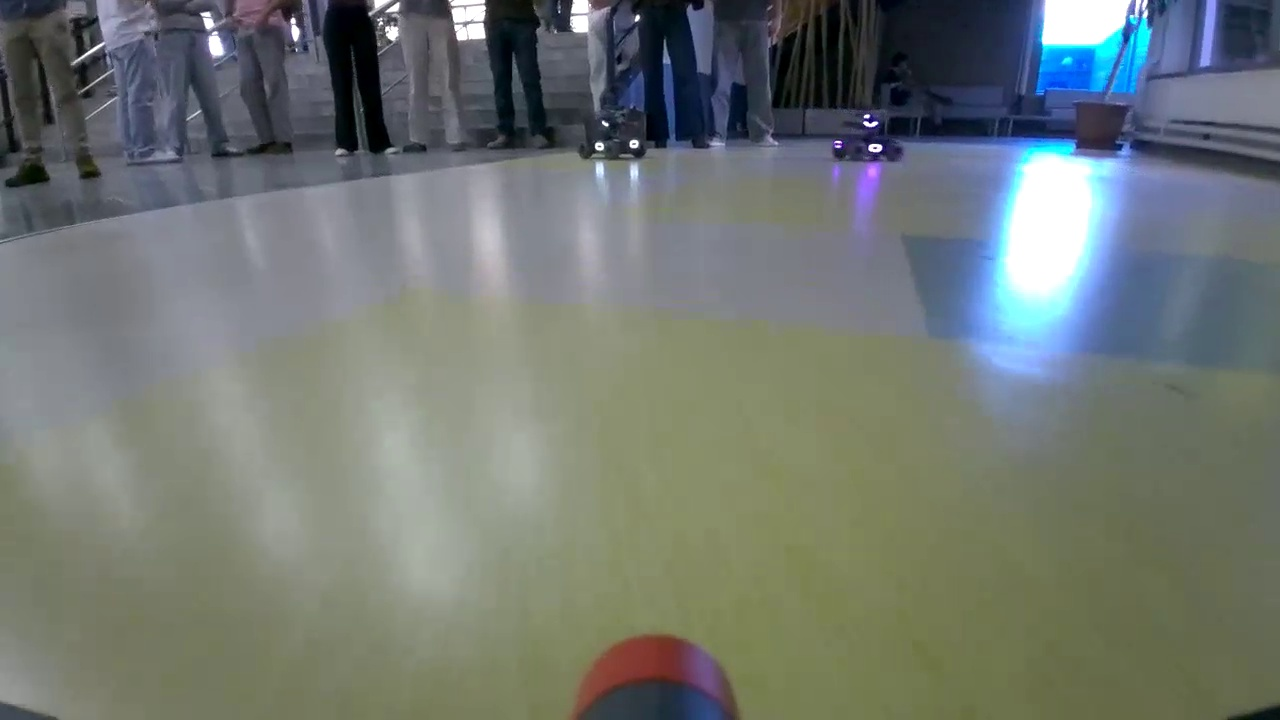robot: (578, 105, 647, 161), (832, 110, 904, 163)
